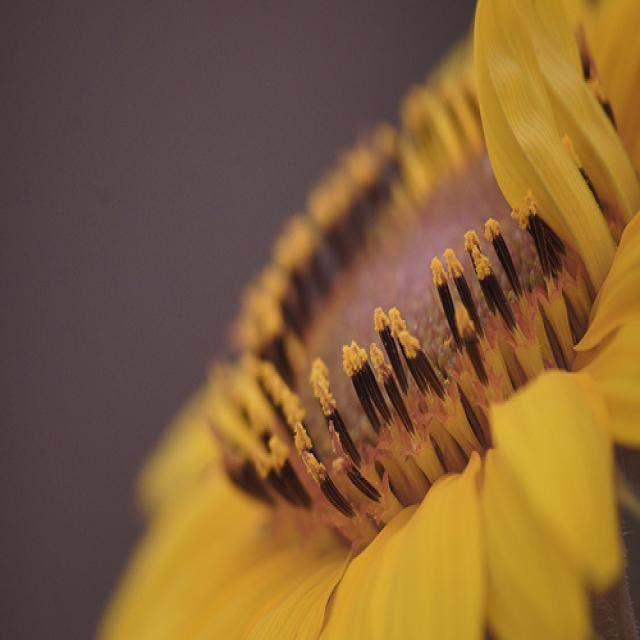sunflower: (51, 0, 639, 640)
